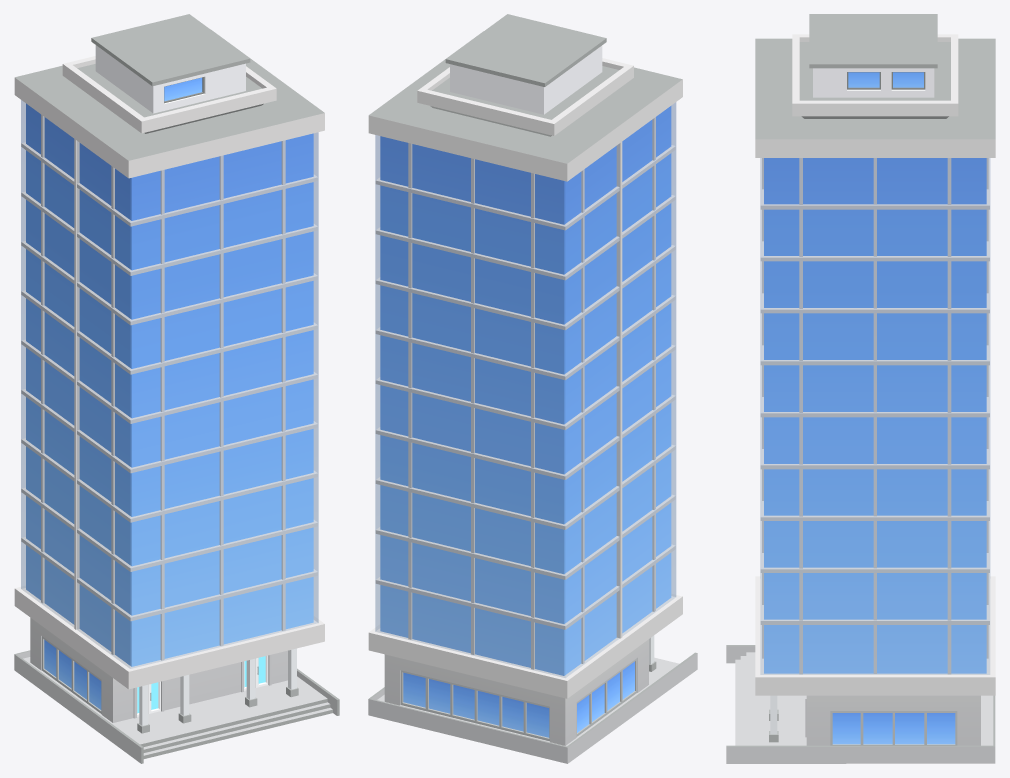
Rendered from city2-building-business-02.glb.
3 renders of one model, left to right at view 1: azimuth 30°, elevation 25°; view 2: azimuth 150°, elevation 25°; view 3: azimuth 270°, elevation 25°, orthographic. The views are drawn at different scales.
Parts seen in each view (by area): view 1: Building_Business_02; view 2: Building_Business_02; view 3: Building_Business_02.
Part boxes in pixels (box(x1,y1,x2,y2)): Building_Business_02: box(14, 14, 339, 763); Building_Business_02: box(368, 14, 697, 763); Building_Business_02: box(726, 14, 995, 763).
Size of the model in its own units: 13.21 by 40.74 by 14.74.
2 materials, 2 textured.
